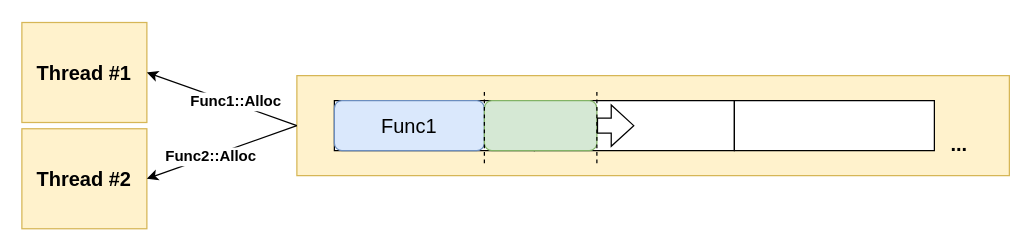
The diagram is 1031 pixels wide and 250 high, and some of its shapes have lost their labels. Each missing label, with the box of its shape:
Frame Allocator: (296, 74, 1009, 176)
Func2: (483, 99, 597, 151)
